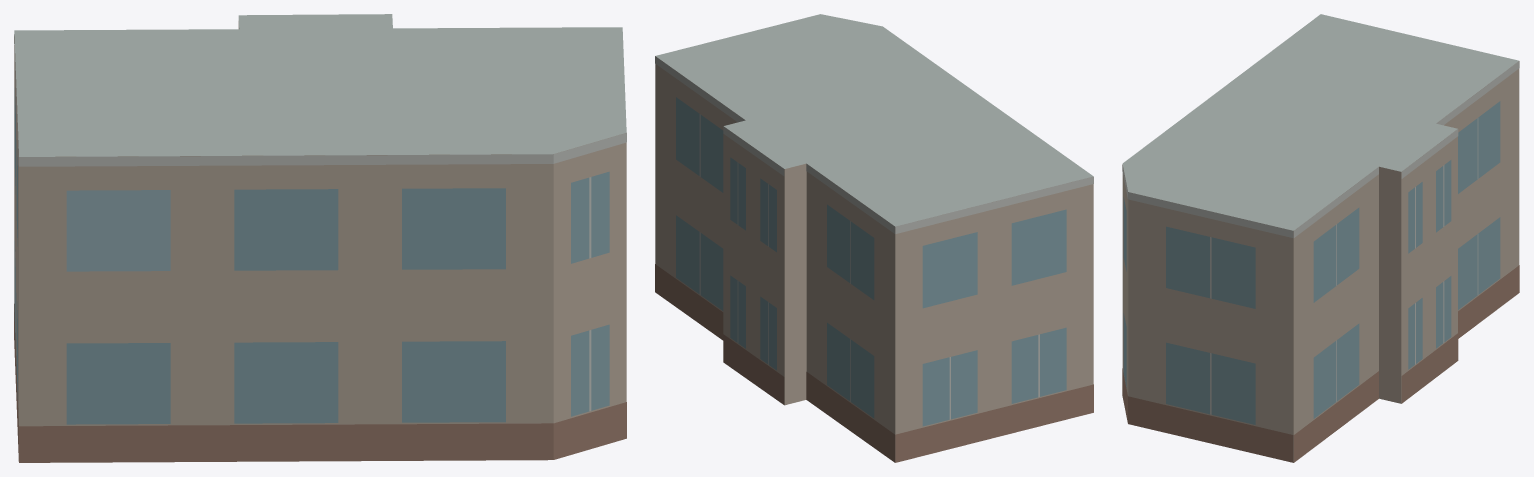
Rendered from survey-upis-32925987.glb.
The picture shows the model from 3 angles, left to right: view 1: azimuth 30°, elevation 25°; view 2: azimuth 150°, elevation 25°; view 3: azimuth 270°, elevation 25°; orthographic projection. The views are drawn at different scales.
Parts seen in each view (by area): view 1: survey-upis-32925987.tmp; view 2: survey-upis-32925987.tmp; view 3: survey-upis-32925987.tmp.
Boxes of the visible parts, x1,y1,x2,y2 form: survey-upis-32925987.tmp: [14, 14, 626, 462]; survey-upis-32925987.tmp: [655, 14, 1093, 462]; survey-upis-32925987.tmp: [1122, 14, 1519, 462].
Bounding box in the file's own units: 15.24 × 7.6 × 11.79.
